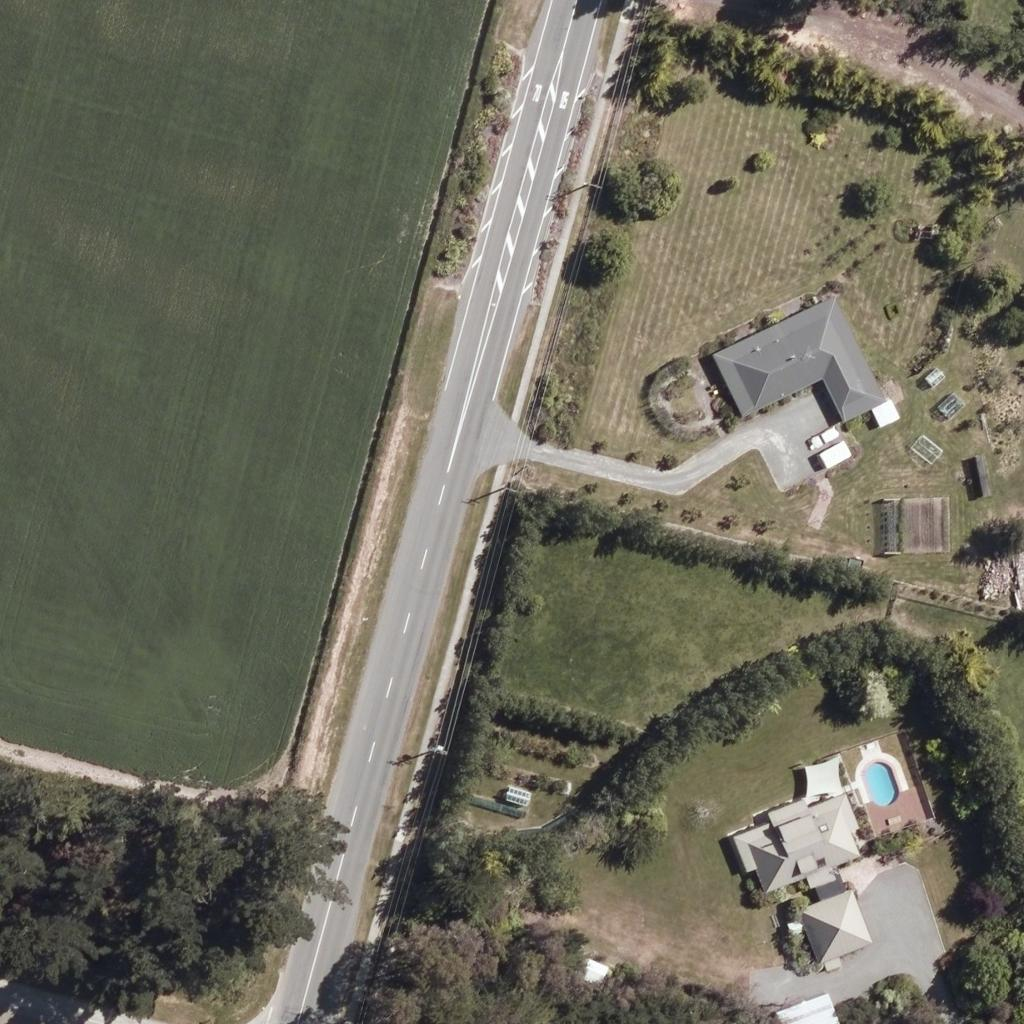car: (807, 418, 841, 452)
